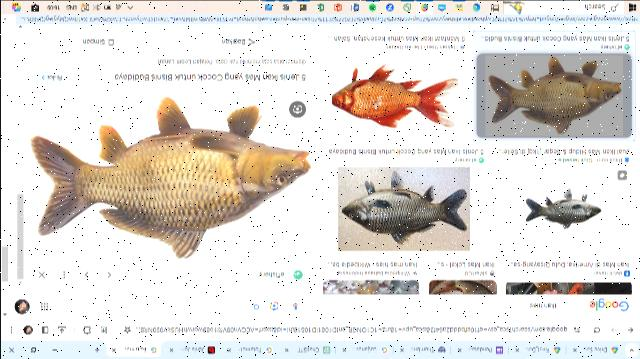Mulut: (289, 142, 319, 180)
Sirip Anal: (94, 118, 130, 166)
Sirip Dada: (187, 96, 266, 160)
Sirip Ekor: (24, 130, 84, 238)
Sirip Perut: (150, 94, 193, 140)
Sirip Punggung: (98, 201, 208, 263)
